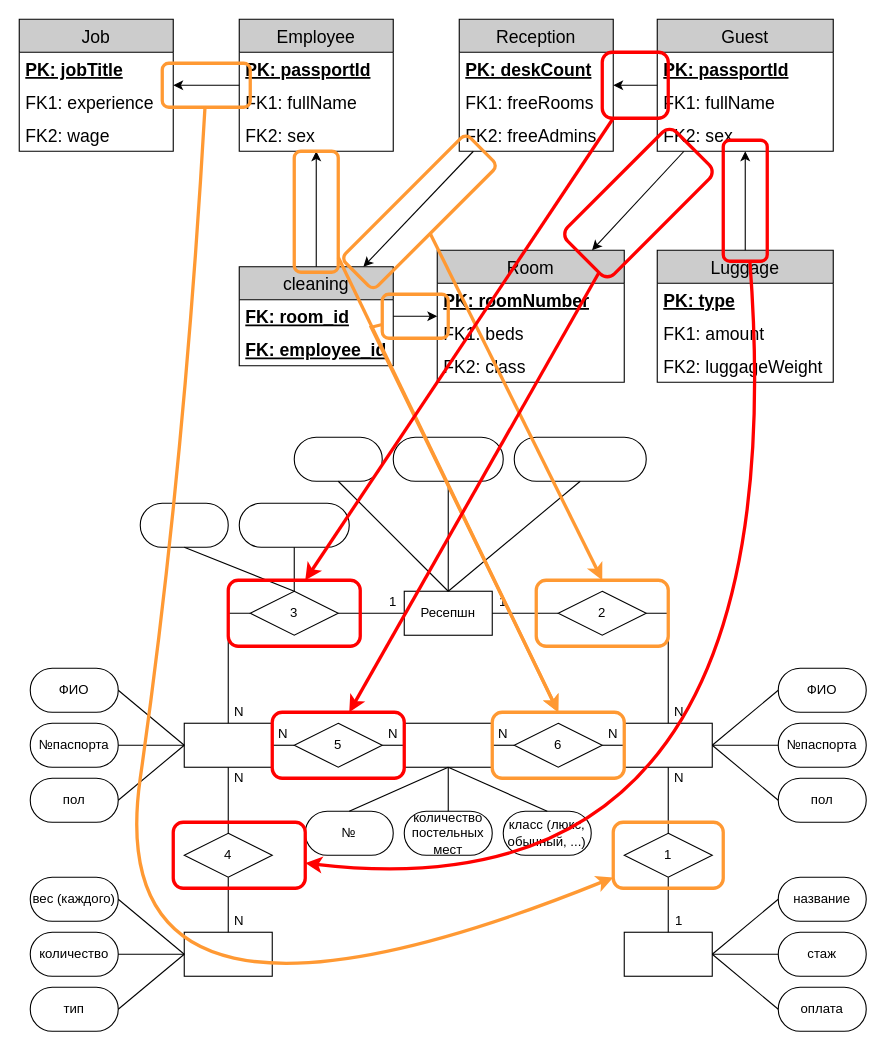
The diagram is 886 pixels wide and 1051 high, and some of its shapes have lost their labels. Each missing label, with the centre of its shape:
"Багаж" belongs at point (227, 953).
"Гость" belongs at point (227, 744).
"Дата заселения/выселения" belongs at point (293, 524).
"Должность" belongs at point (667, 953).
"Ключ от номера" belongs at point (183, 524).
"Количество свободных номеров" belongs at point (447, 458).
"Количество стоек" belongs at point (337, 458).
"Количесто администраторов" belongs at point (579, 458).
"Номер" belongs at point (447, 744).
"Сотрудник" belongs at point (667, 744).
